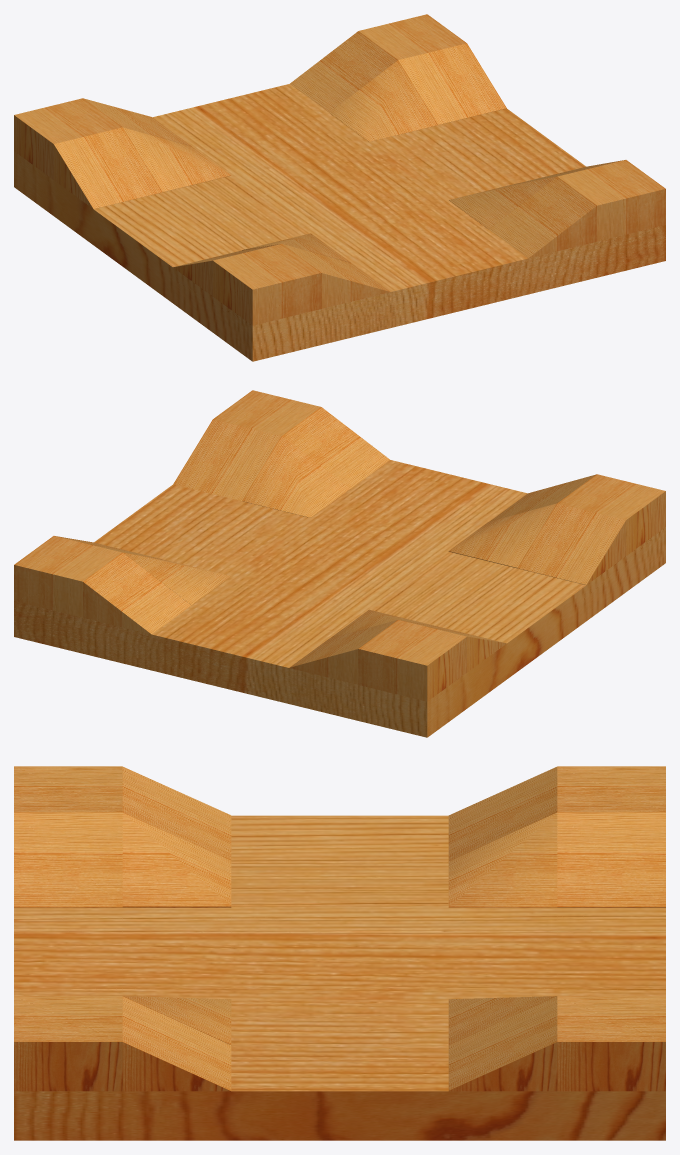
The model's file is Stage1.fbx.
3 renders of one model, top to bottom at view 1: azimuth 30°, elevation 25°; view 2: azimuth 150°, elevation 25°; view 3: azimuth 270°, elevation 25°, orthographic. The views are drawn at different scales.
Visible parts, largest first — view 1: pCube26; view 2: pCube26; view 3: pCube26.
Part boxes in pixels (bbox=[...]): pCube26: bbox=[14, 14, 665, 361]; pCube26: bbox=[14, 390, 665, 737]; pCube26: bbox=[14, 766, 665, 1140].
Bounding box in the file's own units: 24 × 4 × 24.
